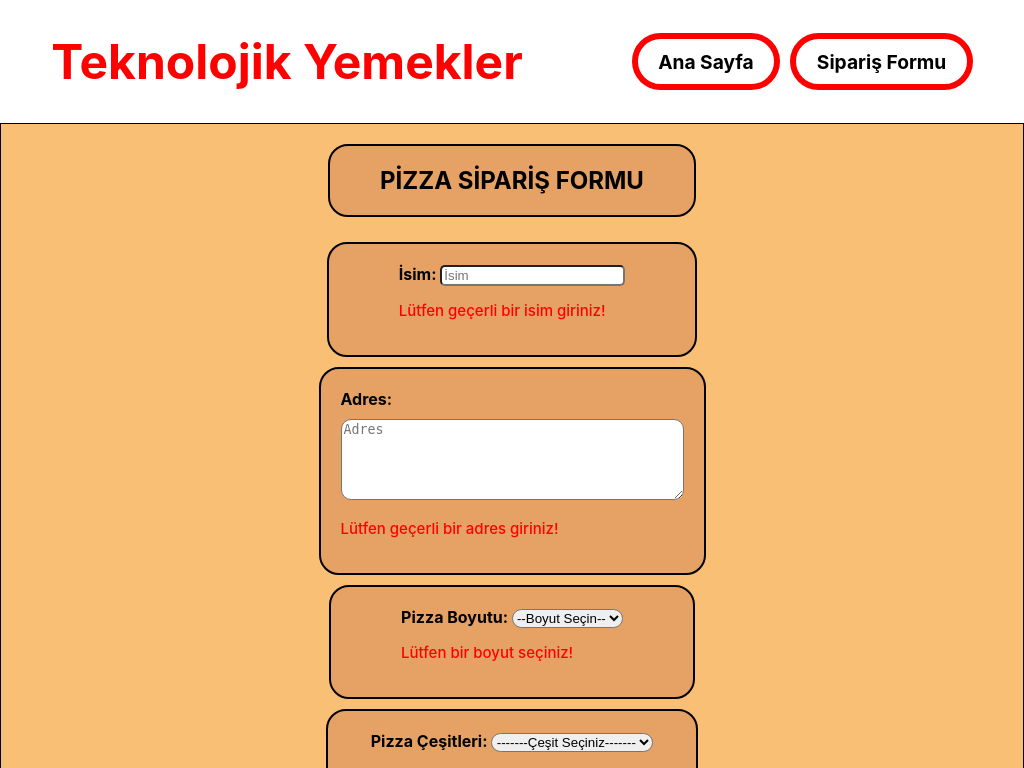
Test case: Form Error Tests › Pizza boyutu seçilmeyince hata mesajı görünüyor mu?
The width and height of the screenshot is (1024, 768).
Select "Orta" in the dropdown next to "Pizza Boyutu:": (568, 619) [512,609,623,628]
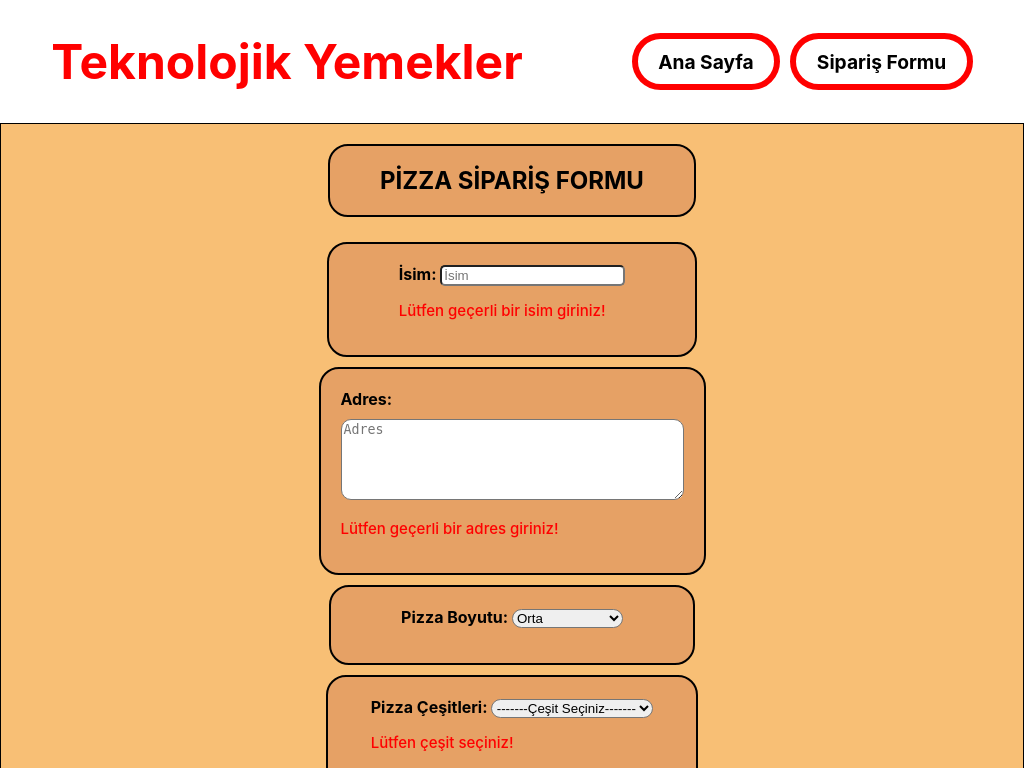
Select "--Boyut Seçin--" in the dropdown next to "Pizza Boyutu:": (568, 619) [512,609,623,628]
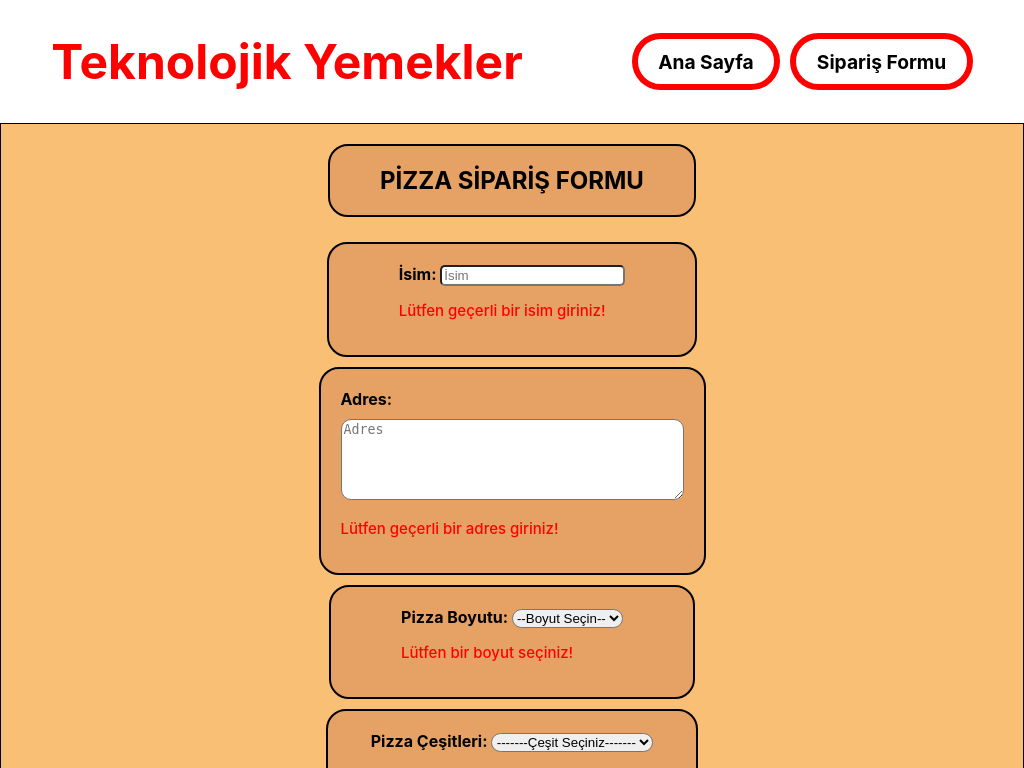
Check: the text "Lütfen bir boyut seçiniz!" is shown, box [401,643,573,662]
